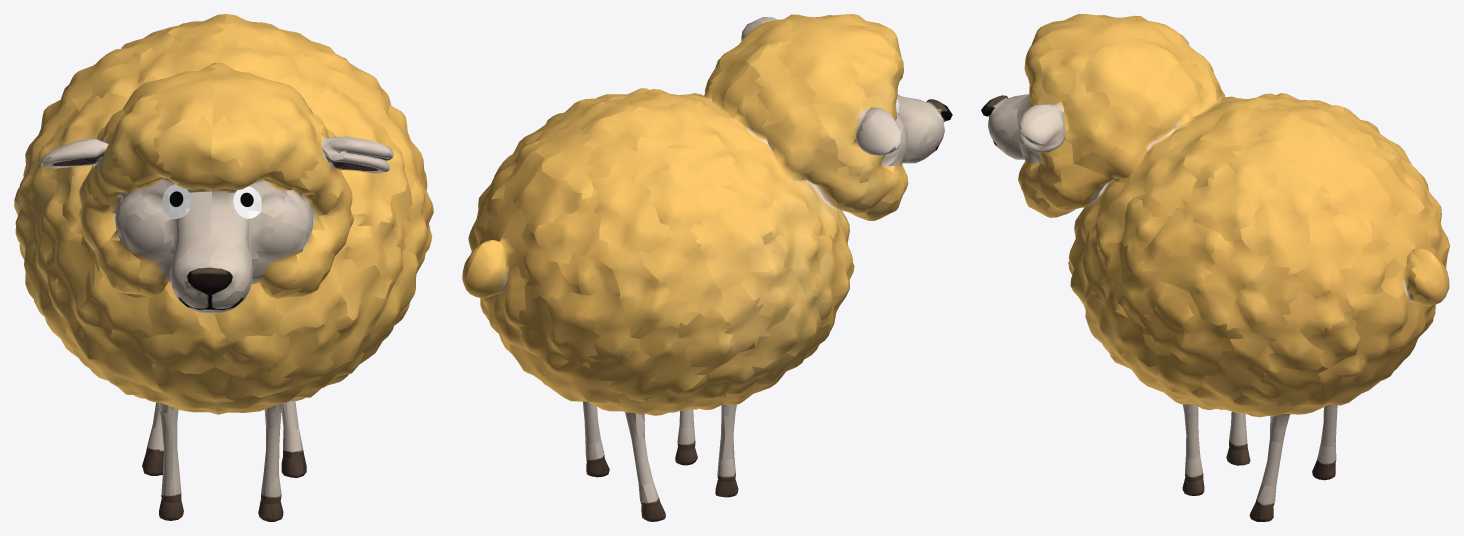
The model's file is Meshy_AI_model_Animation_Walking_withSkin.glb.
The picture shows the model from 3 angles, left to right: view 1: azimuth 30°, elevation 25°; view 2: azimuth 150°, elevation 25°; view 3: azimuth 270°, elevation 25°; orthographic projection. The views are drawn at different scales.
Visible parts, largest first — view 1: MV (27).001; view 2: MV (27).001; view 3: MV (27).001.
Part boxes in pixels (left/top/right/bottom): MV (27).001: left=14, top=14, right=433, bottom=521; MV (27).001: left=462, top=14, right=952, bottom=521; MV (27).001: left=981, top=14, right=1449, bottom=521.
Bounding box in the file's own units: 1.51 × 1.72 × 1.73.
Materials: 2 (2 with a texture image).
